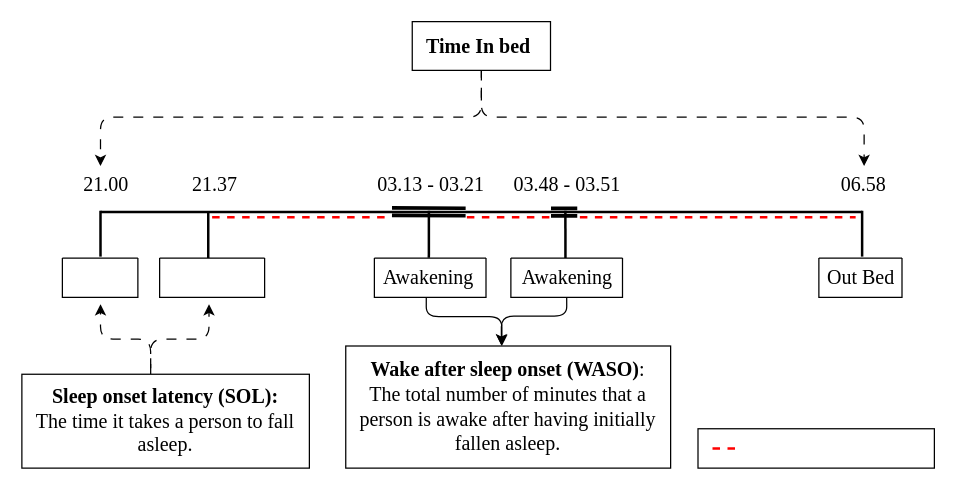
This 965x491 diagram has some shape labels left out. The centre of each missing label's shape, as x and y in pixels:
"In Bed" goes at point 99,277.
"Sleep Onset" goes at point 211,277.
"Total sleep time (TST)" goes at point 815,448.
